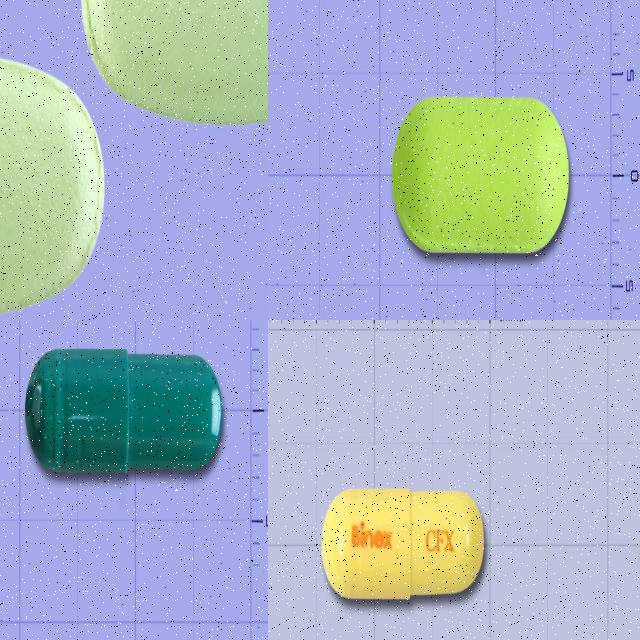Cefixime Cap: (319, 485, 489, 608)
Clarod: (0, 50, 106, 320), (79, 0, 268, 118)
Clycin Tab-500mg: (393, 95, 570, 254)
Doxiramycin Cap: (25, 346, 225, 479)
